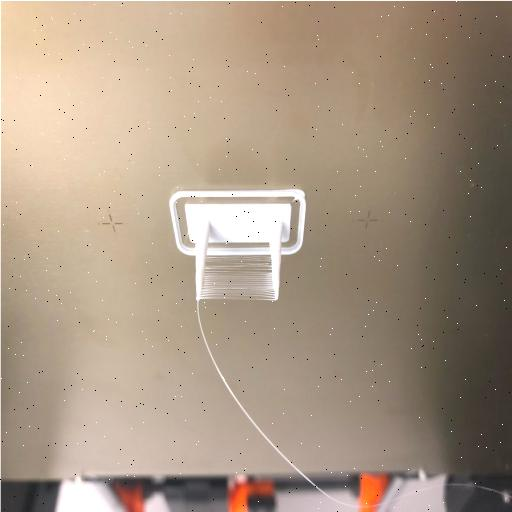stringing: (202, 254, 275, 303)
